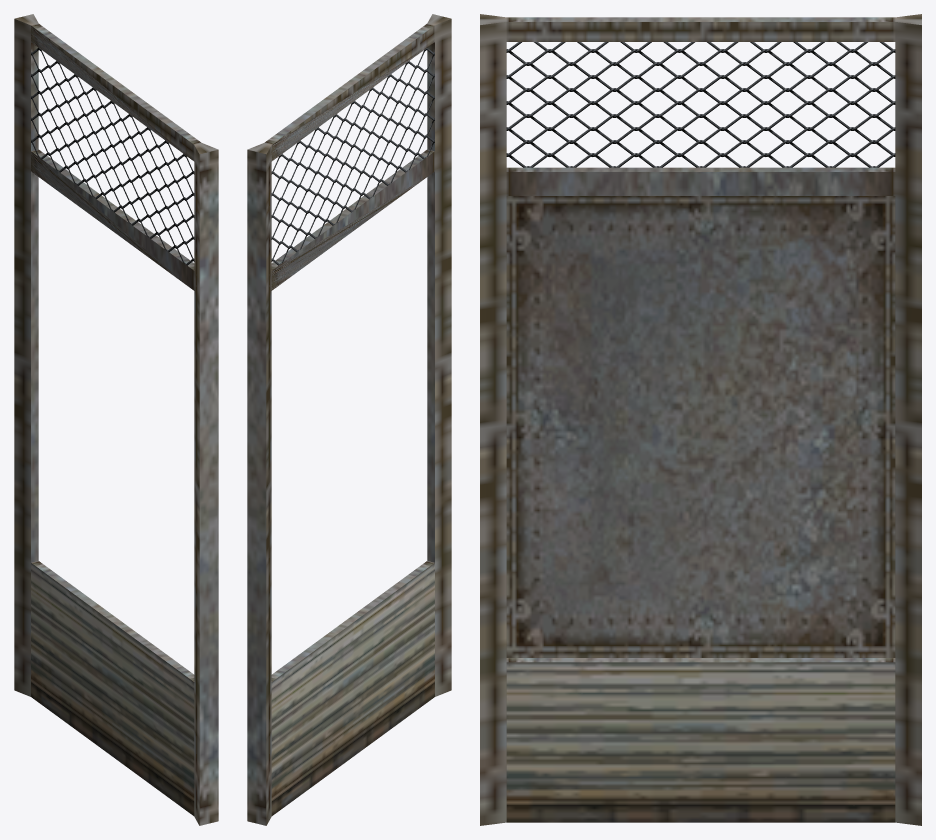
File: M8_Tunnel_MetalWall.glb
3 views of the same model, side by side, from view 1: azimuth 30°, elevation 25°; view 2: azimuth 150°, elevation 25°; view 3: azimuth 270°, elevation 25° (orthographic). The views are drawn at different scales.
Visible parts, largest first — view 1: M8_TUNNEL_METALWALL; view 2: M8_TUNNEL_METALWALL; view 3: M8_TUNNEL_METALWALL.
Boxes of the visible parts, x1,y1,x2,y2 form: M8_TUNNEL_METALWALL: [14, 14, 218, 825]; M8_TUNNEL_METALWALL: [247, 14, 451, 825]; M8_TUNNEL_METALWALL: [480, 14, 921, 825].
Bounding box in the file's own units: 0.06 × 2 × 1.
3 materials, 3 textured.
